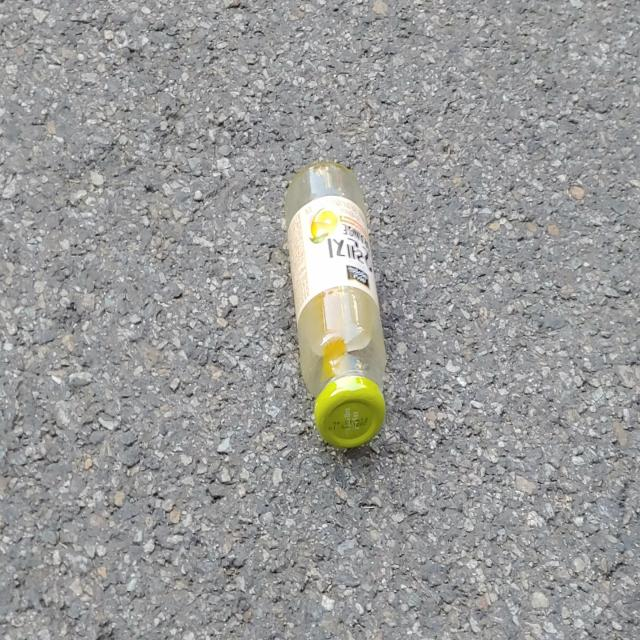glass: (285, 162, 386, 448)
